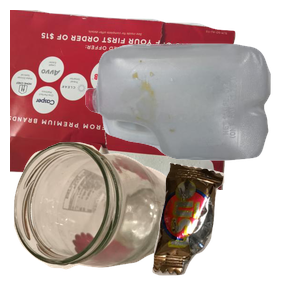glass: (11, 139, 179, 300)
paper: (10, 10, 238, 190)
plastic: (83, 41, 300, 194)
trash: (150, 160, 300, 300)
